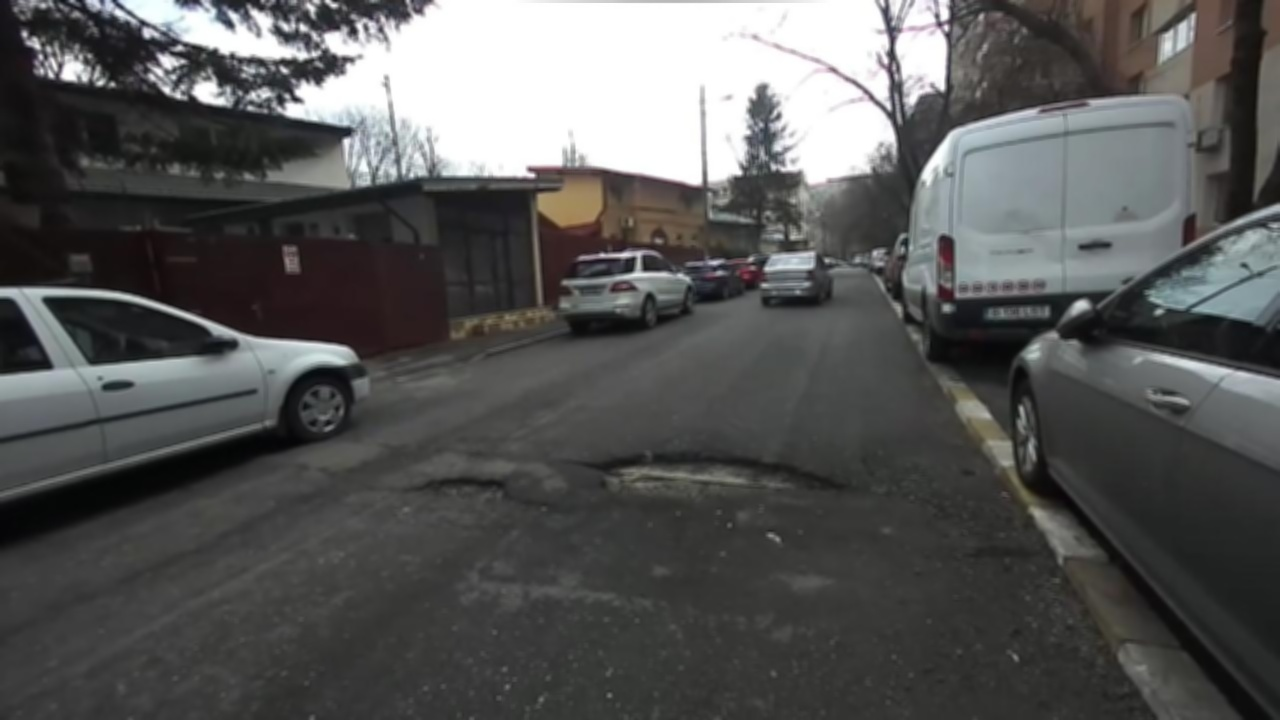pothole: (582, 447, 858, 505), (410, 471, 548, 511)
